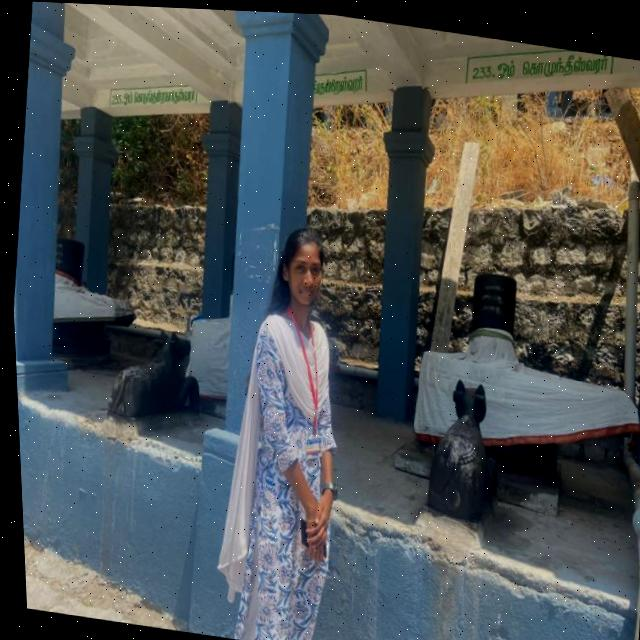id_card: (267, 304, 335, 463)
